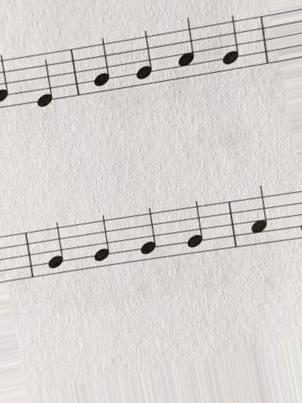note: (32, 50, 61, 116), (217, 10, 245, 75), (134, 206, 163, 266), (246, 182, 273, 246), (173, 15, 198, 83), (42, 218, 71, 275), (91, 210, 116, 275), (182, 201, 210, 257), (89, 36, 116, 94), (132, 28, 159, 86)
